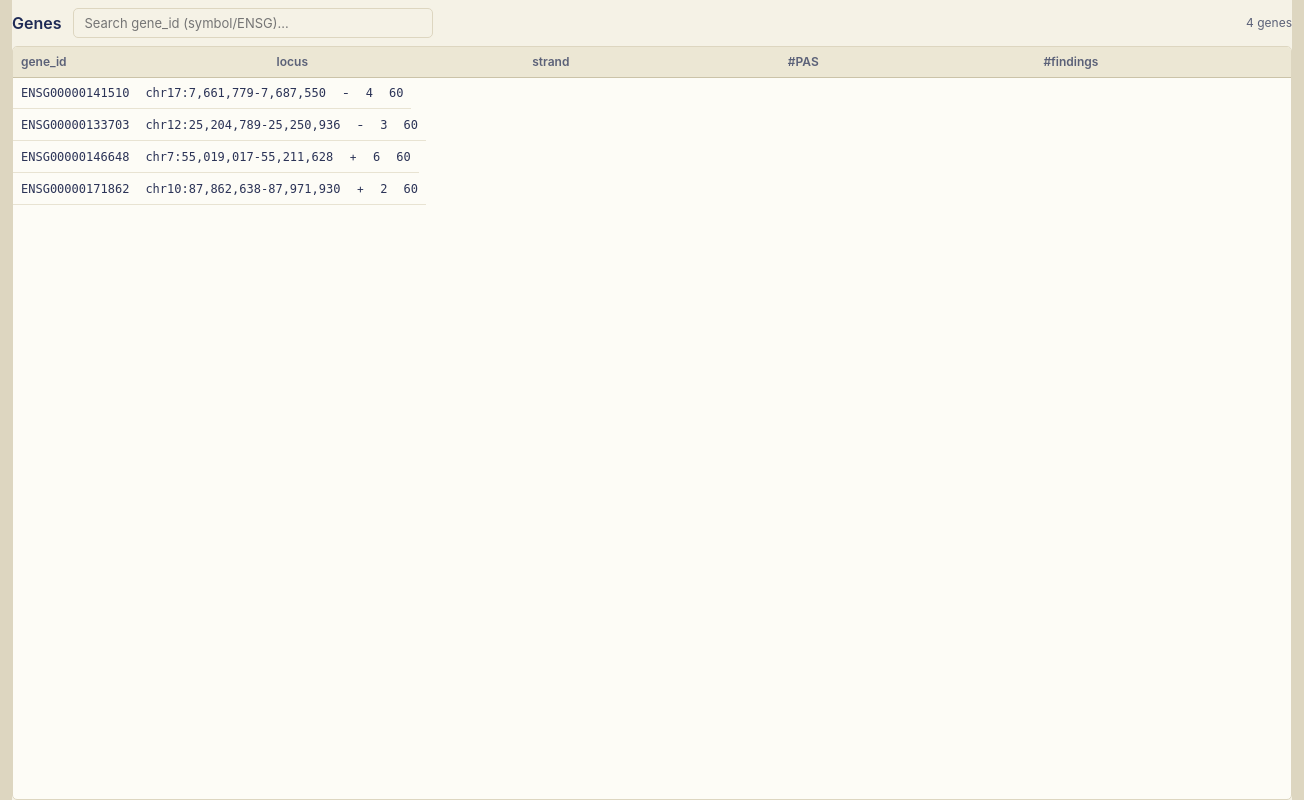
Test case: GeneBrowser › filters rows by debounced search text (substring match on gene_id)
This screenshot has width=1304, height=800.
Expected: the text "4 genes" is shown, [1246, 14, 1292, 32]
Step 1. Type "0133703" into the search field named "search genes" → coordinates (254, 23), box [74, 8, 434, 38]
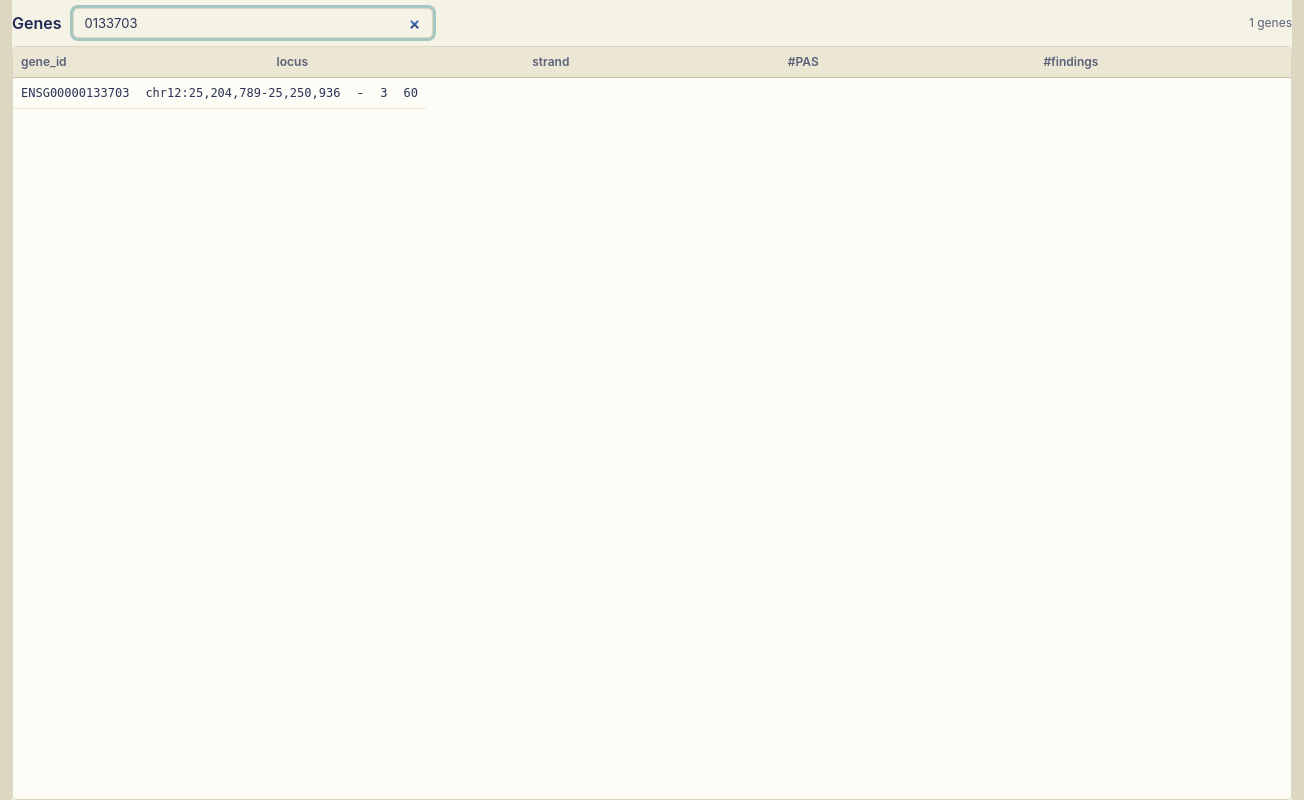
Expected: the text "ENSG00000133703" is shown, [21, 84, 129, 102]
Expected: the text "1 genes" is shown, [1249, 14, 1292, 32]
Expected: the text "ENSG00000141510" is gone
